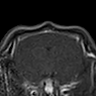Brain: (17, 35, 80, 80)
